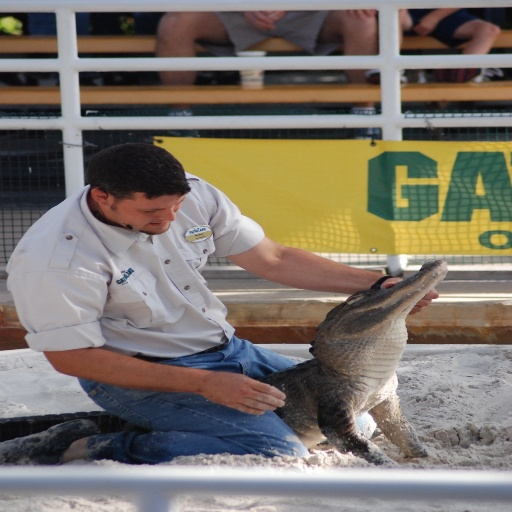hand: (211, 374, 285, 414), (378, 276, 440, 316)
